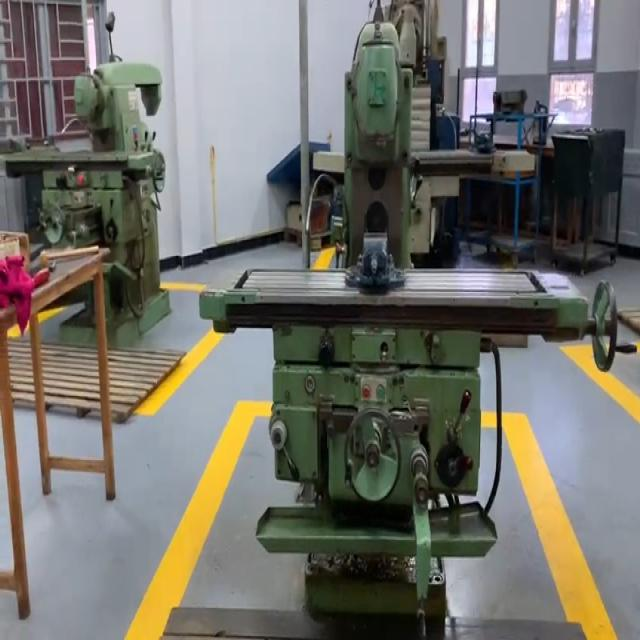tour parallele: (200, 4, 618, 618)
